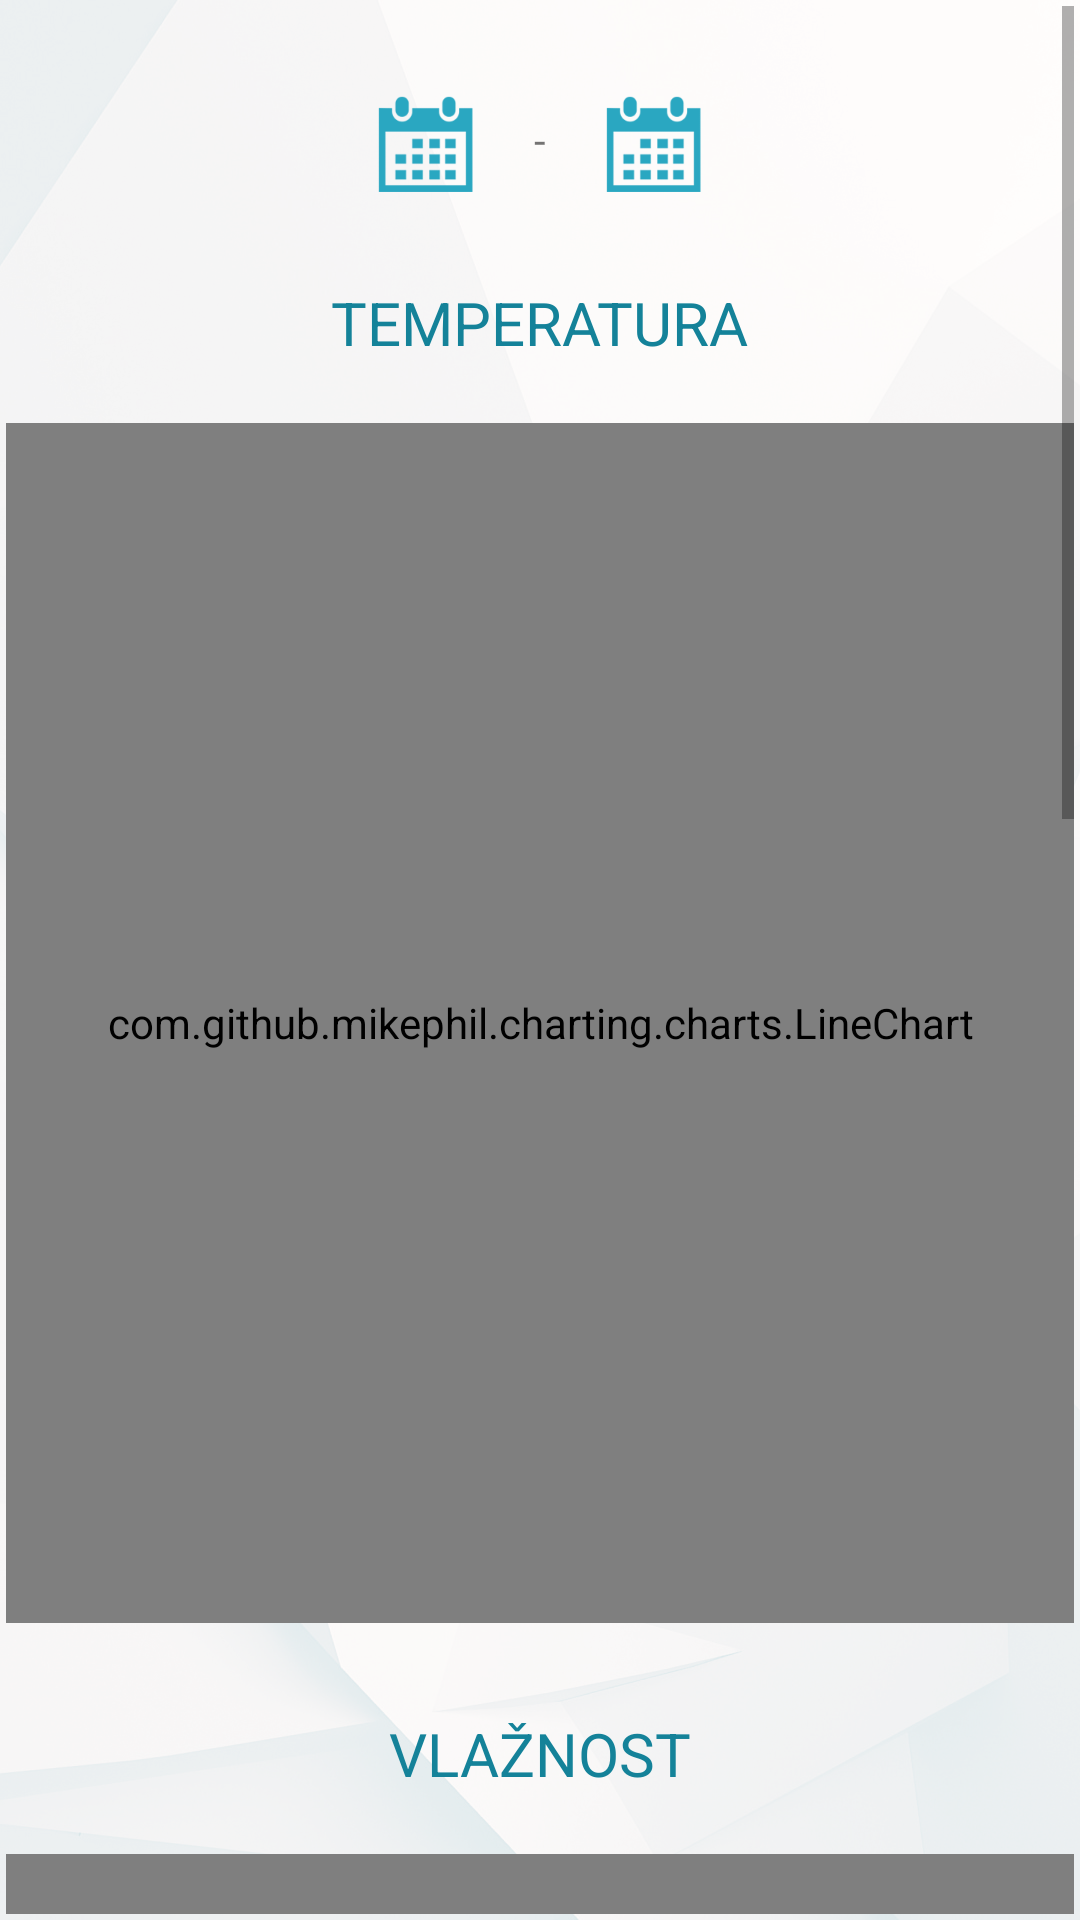

Screen size 1080*1920. Icon name, then its box in pixels as (x1, y1, x2, y2):
calendar: (378, 96, 473, 192), (606, 96, 701, 192)
